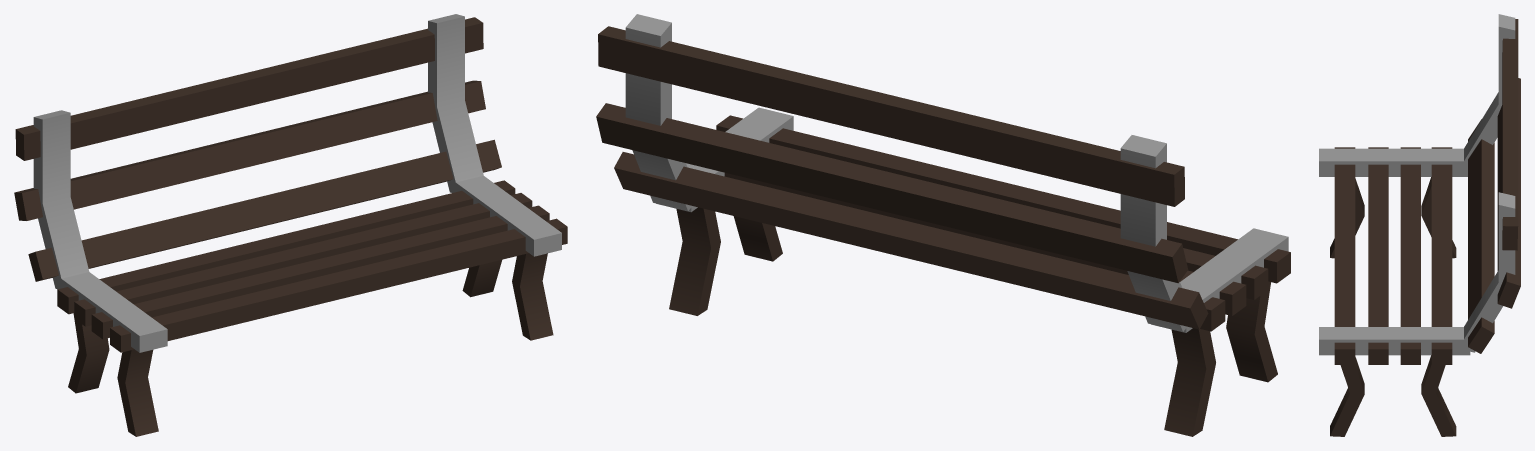
File: bankje.fbx
The picture shows the model from 3 angles, left to right: view 1: azimuth 30°, elevation 25°; view 2: azimuth 150°, elevation 25°; view 3: azimuth 270°, elevation 25°; orthographic projection. The views are drawn at different scales.
Parts seen in each view (by area): view 1: bankje; view 2: bankje; view 3: bankje.
Boxes of the visible parts, x1=… form: bankje: x1=14, y1=14, x2=567, y2=436; bankje: x1=596, y1=14, x2=1290, y2=436; bankje: x1=1319, y1=14, x2=1520, y2=436.
Size of the model in its own units: 9.12 by 4.79 by 3.75.
